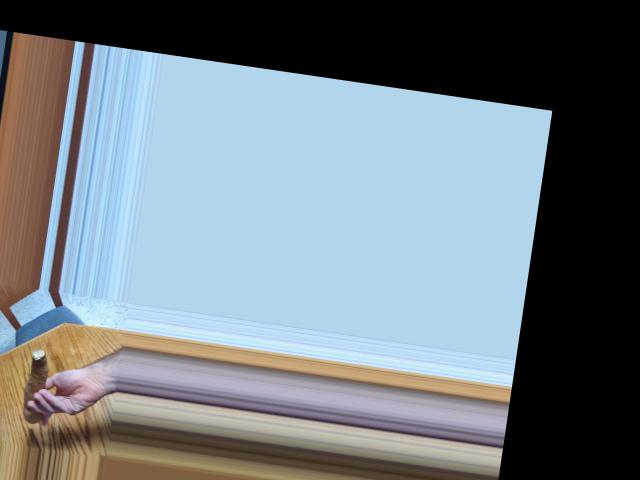sweet_potato: (14, 352, 55, 420)
